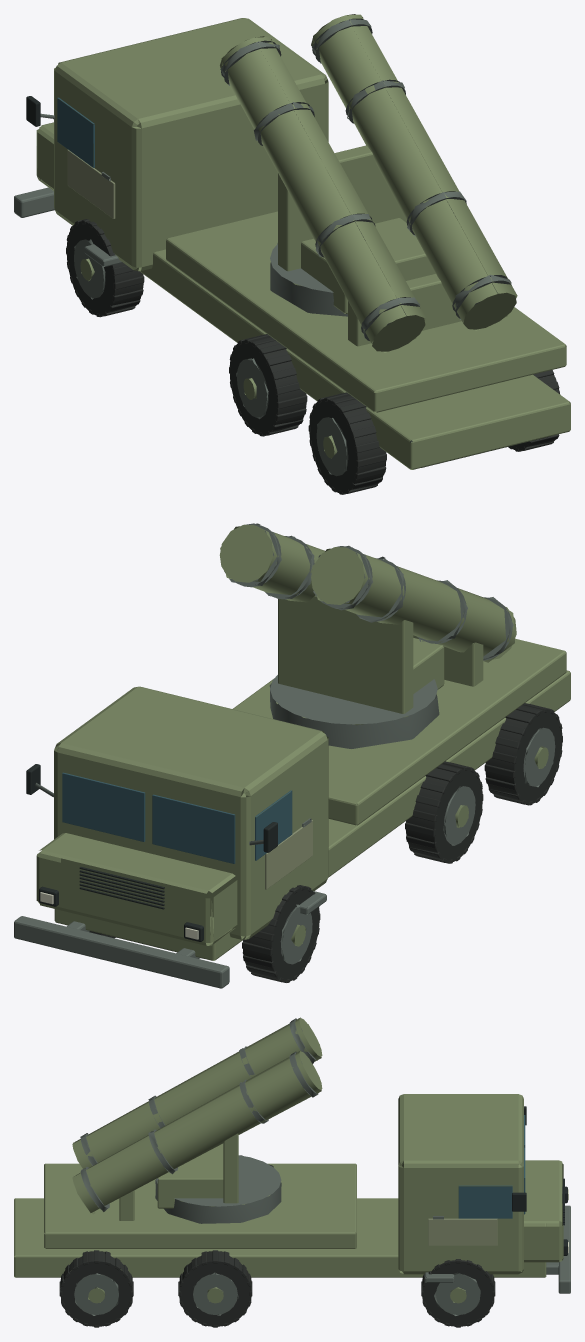
The model's file is sam-site.glb.
3 renders of one model, top to bottom at view 1: azimuth 30°, elevation 25°; view 2: azimuth 150°, elevation 25°; view 3: azimuth 270°, elevation 25°, orthographic. The views are drawn at different scales.
Visible parts, largest first — view 1: static.olive painted metal, static.rubber and track pads, static.dark exterior metal, static.edge and panel paint, static.smoked glazing; view 2: static.olive painted metal, static.dark exterior metal, static.rubber and track pads, static.smoked glazing, static.recess shadow, static.edge and panel paint; view 3: static.olive painted metal, static.dark exterior metal, static.rubber and track pads, static.smoked glazing, static.edge and panel paint, static.recess shadow.
Boxes of the visible parts, <box> form: static.olive painted metal: <box>36,14,570,469</box>; static.rubber and track pads: <box>66,219,560,494</box>; static.dark exterior metal: <box>14,18,511,476</box>; static.edge and panel paint: <box>67,149,115,218</box>; static.smoked glazing: <box>57,97,94,167</box>; static.olive painted metal: <box>36,524,570,960</box>; static.dark exterior metal: <box>14,523,555,988</box>; static.rubber and track pads: <box>89,703,562,982</box>; static.smoked glazing: <box>62,772,292,863</box>; static.recess shadow: <box>26,764,277,958</box>; static.edge and panel paint: <box>265,820,312,889</box>; static.olive painted metal: <box>14,1017,563,1303</box>; static.dark exterior metal: <box>74,1018,570,1315</box>; static.rubber and track pads: <box>59,1250,495,1327</box>; static.smoked glazing: <box>458,1115,525,1218</box>; static.edge and panel paint: <box>428,1218,497,1245</box>; static.recess shadow: <box>512,1106,567,1255</box>.
Bounding box in the file's own units: 3.38 × 4.52 × 9.
